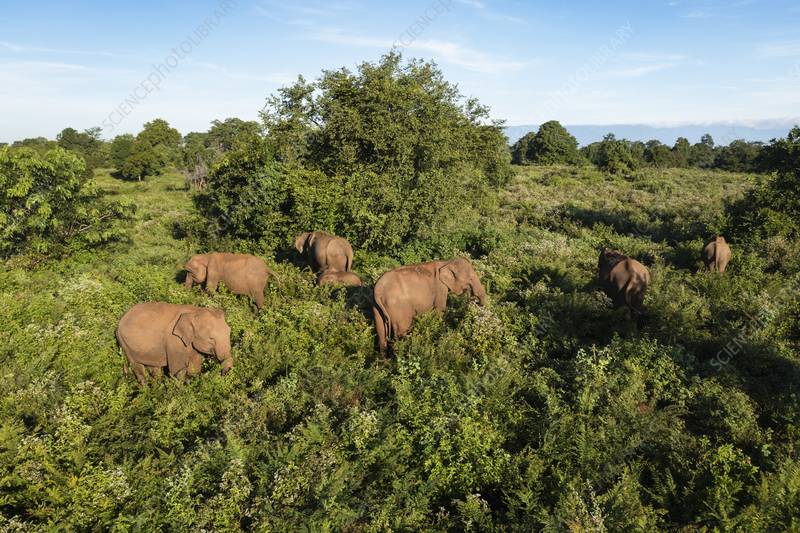Adult Elephant: (99, 290, 237, 396), (366, 253, 489, 349), (590, 239, 672, 311), (178, 249, 270, 308), (686, 224, 743, 298), (292, 230, 357, 274)
Baby Elephant: (320, 269, 359, 292)
